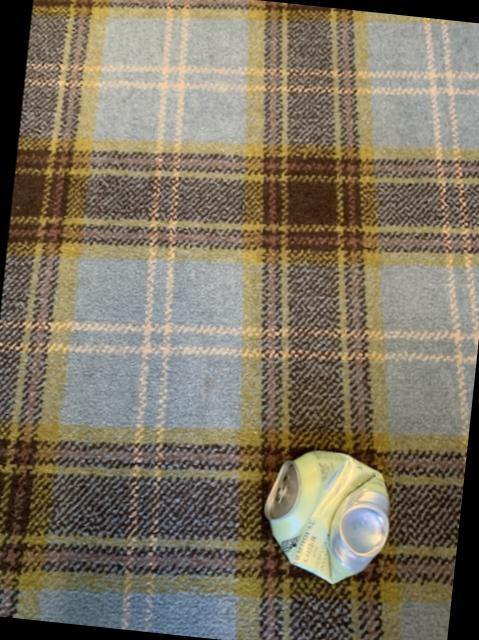metal: (265, 452, 390, 584)
